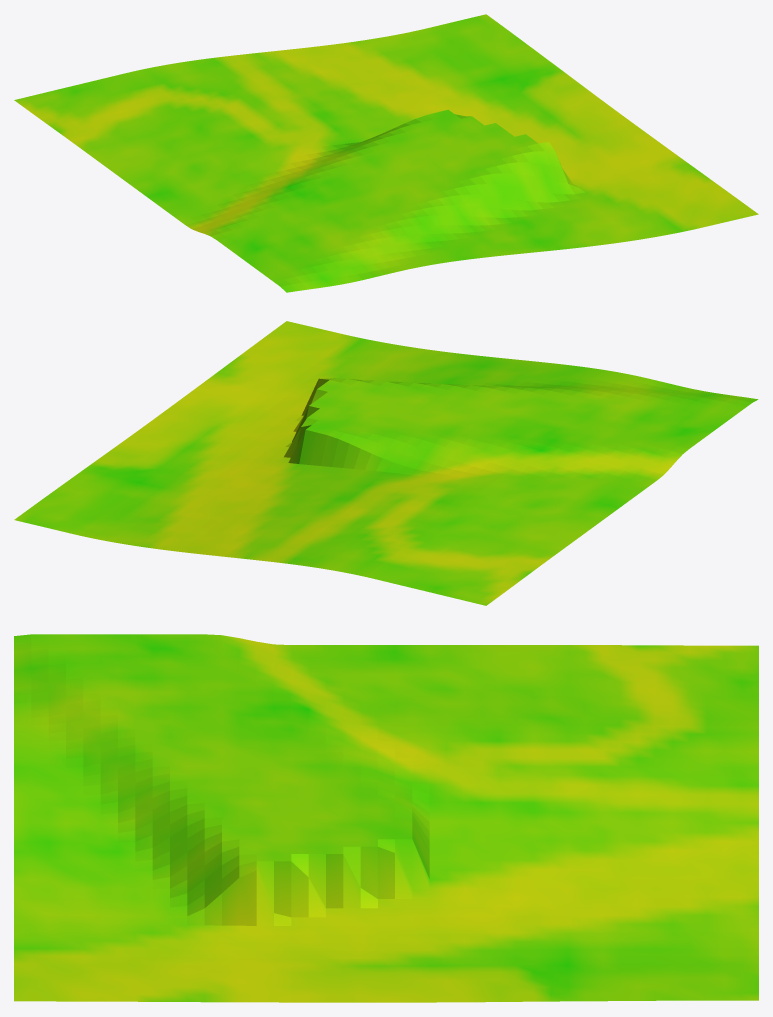
File: terrain_0_1.glb
3 views of the same model, one above another, from view 1: azimuth 30°, elevation 25°; view 2: azimuth 150°, elevation 25°; view 3: azimuth 270°, elevation 25° (orthographic). The views are drawn at different scales.
Visible parts, largest first — view 1: terrain_0_1; view 2: terrain_0_1; view 3: terrain_0_1.
Part boxes in pixels (box(x1,y1,x2,y2)): terrain_0_1: box(14, 14, 758, 292); terrain_0_1: box(14, 321, 758, 605); terrain_0_1: box(14, 634, 758, 1002).
Bounding box in the file's own units: 85 × 6.73 × 85.
